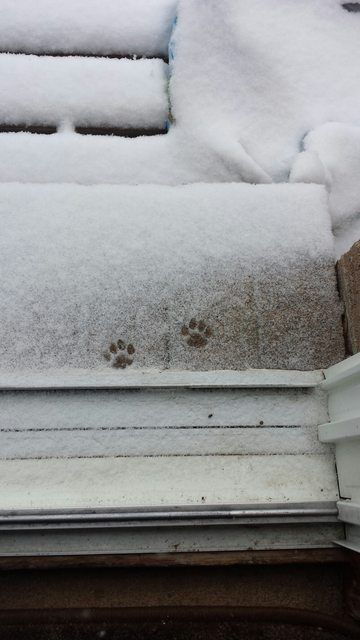cat: (100, 336, 150, 376), (173, 319, 215, 350)
